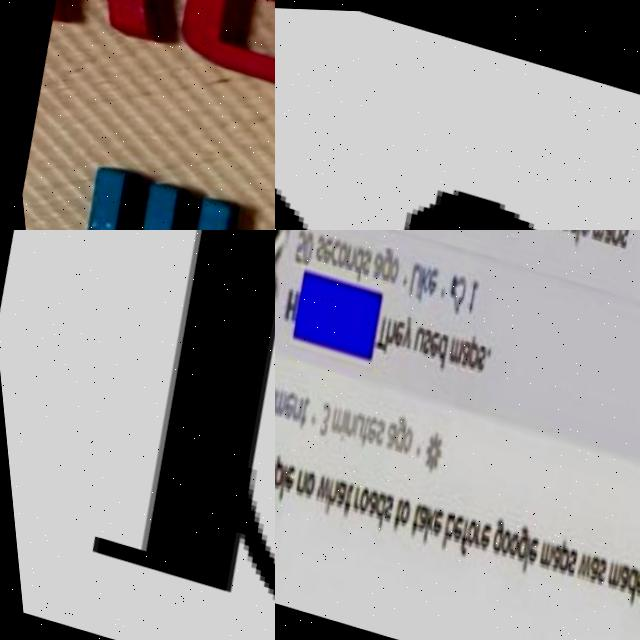0: (291, 230, 313, 265)
1: (456, 274, 476, 312)
3: (304, 399, 326, 436)
5: (283, 230, 303, 262)
M: (61, 158, 234, 230)
N: (28, 230, 275, 640)
O: (169, 0, 275, 95)
X: (275, 84, 640, 230)
